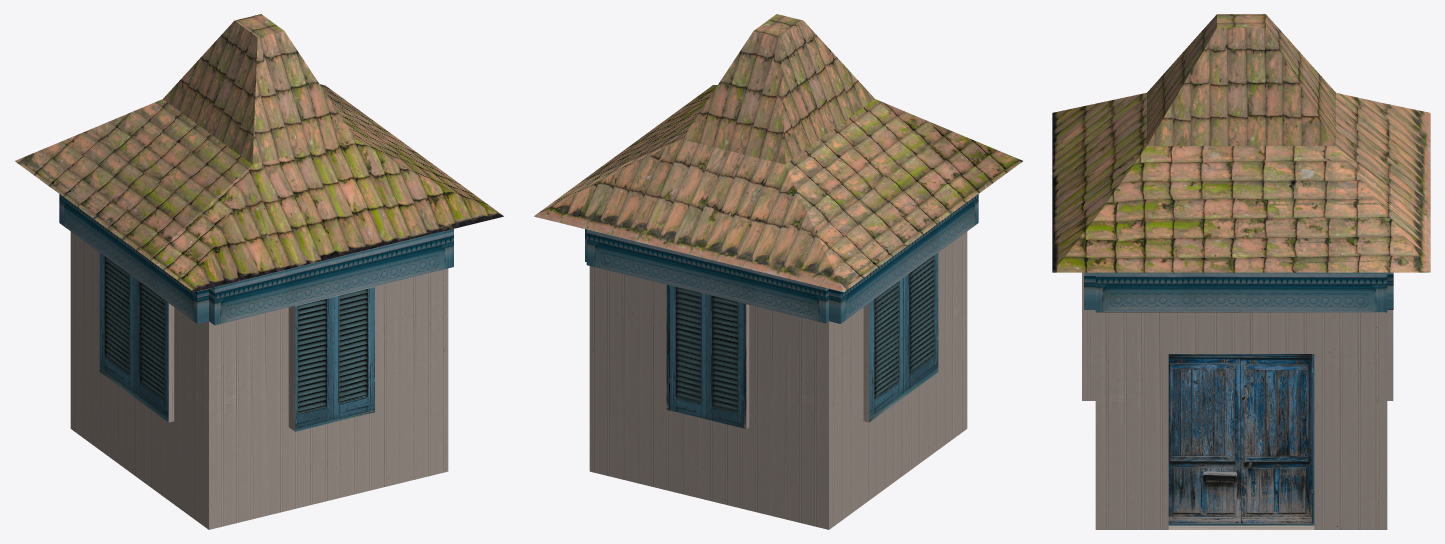
File: building.glb
The picture shows the model from 3 angles, left to right: view 1: azimuth 30°, elevation 25°; view 2: azimuth 150°, elevation 25°; view 3: azimuth 270°, elevation 25°; orthographic projection. The views are drawn at different scales.
Visible parts, largest first — view 1: House; view 2: House; view 3: House.
Boxes of the visible parts, x1,y1,x2,y2 form: House: (15, 14, 503, 529); House: (534, 14, 1022, 529); House: (1052, 14, 1430, 529).
Size of the model in its own units: 3.9 by 5.09 by 3.9.
Materials: 3 (3 with a texture image).
